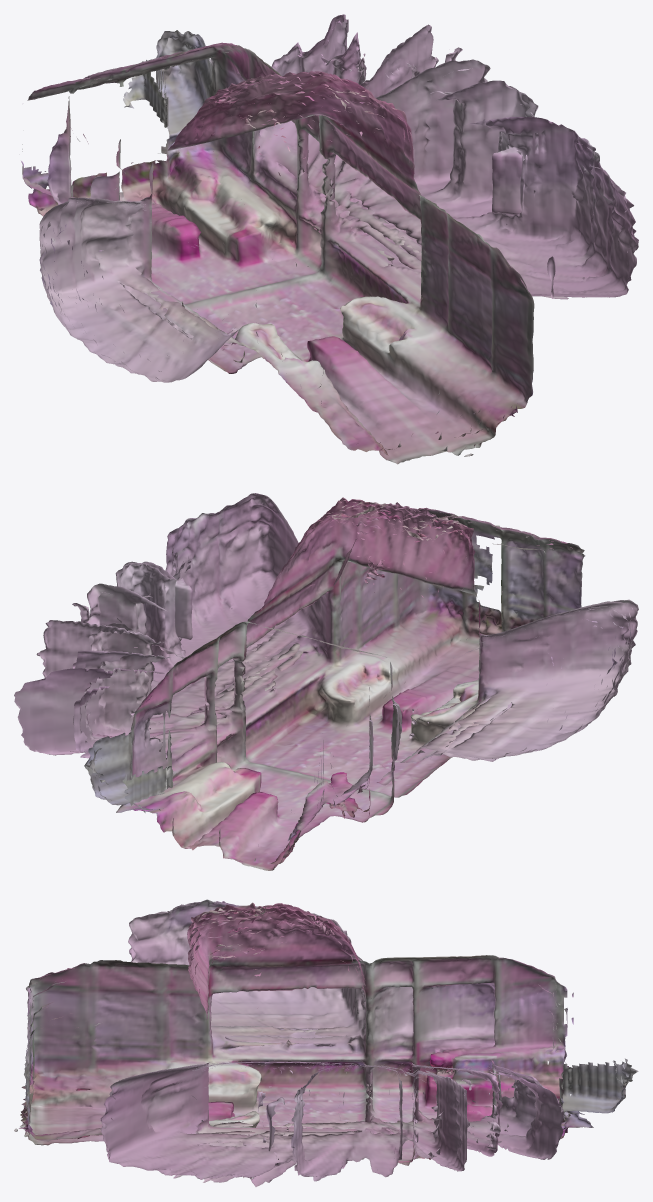
Rendered from glitter-frutiger-lounge-1-1_collider.glb.
3 renders of one model, top to bottom at view 1: azimuth 30°, elevation 25°; view 2: azimuth 150°, elevation 25°; view 3: azimuth 270°, elevation 25°, orthographic. The views are drawn at different scales.
Parts seen in each view (by area): view 1: world; view 2: world; view 3: world.
Part boxes in pixels (left/top/right/bottom): world: left=21, top=14, right=638, bottom=464; world: left=14, top=493, right=638, bottom=870; world: left=14, top=899, right=638, bottom=1186.
Size of the model in its own units: 10.05 by 4.94 by 13.24.
